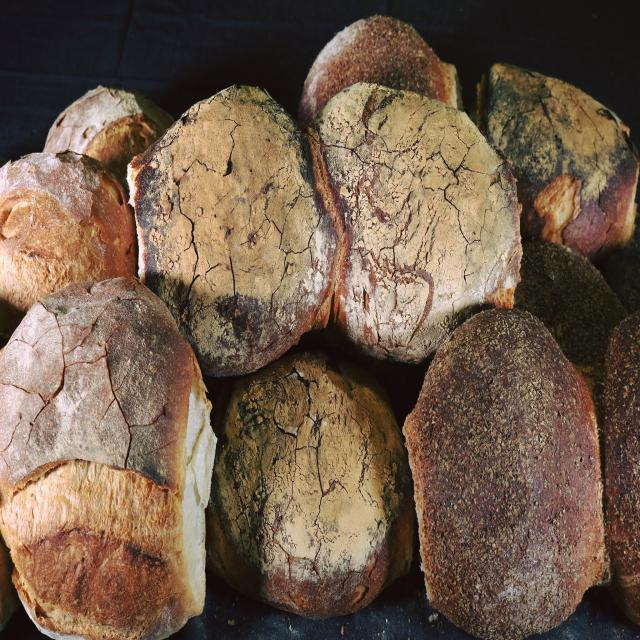Maltese-Bread: (0, 278, 215, 638), (404, 309, 609, 638), (135, 86, 339, 376), (311, 83, 522, 362), (207, 352, 415, 617), (478, 65, 638, 260), (0, 151, 137, 321)
